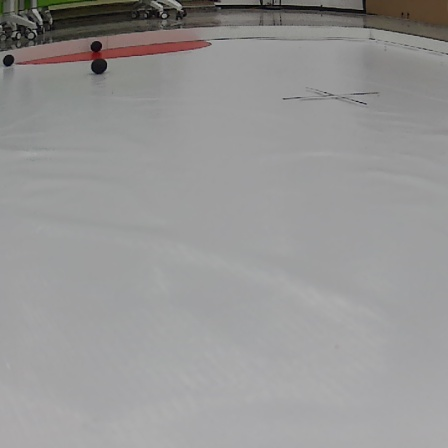black: (89, 59, 111, 76), (3, 52, 17, 69), (87, 40, 106, 52)
red_base: (16, 38, 211, 67)
